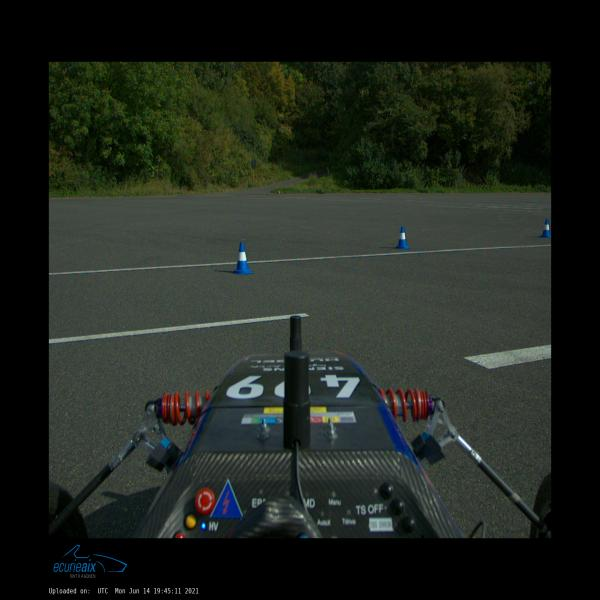blue_cone: (232, 242, 254, 274), (394, 226, 411, 250), (540, 219, 552, 238)
